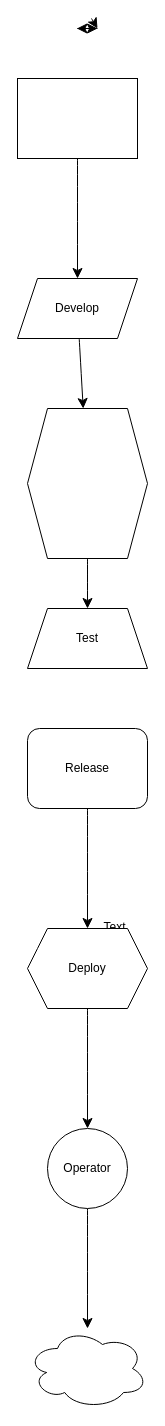
The diagram is 165 pixels wide and 1426 high, and some of its shapes have lost their labels. The centre of each missing label's shape, as x and y in pixels:
"Build" goes at pixel 87 483.
"Monitor" goes at pixel 87 1368.
"Plan" goes at pixel 77 118.
